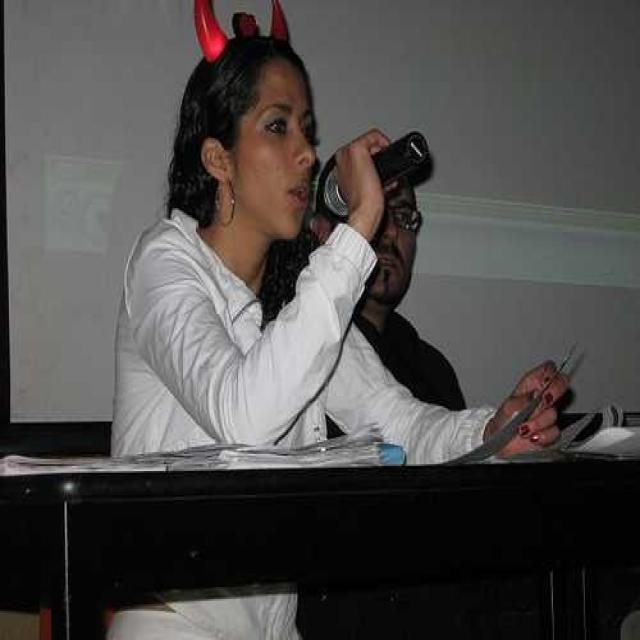microphone: (316, 126, 437, 226)
